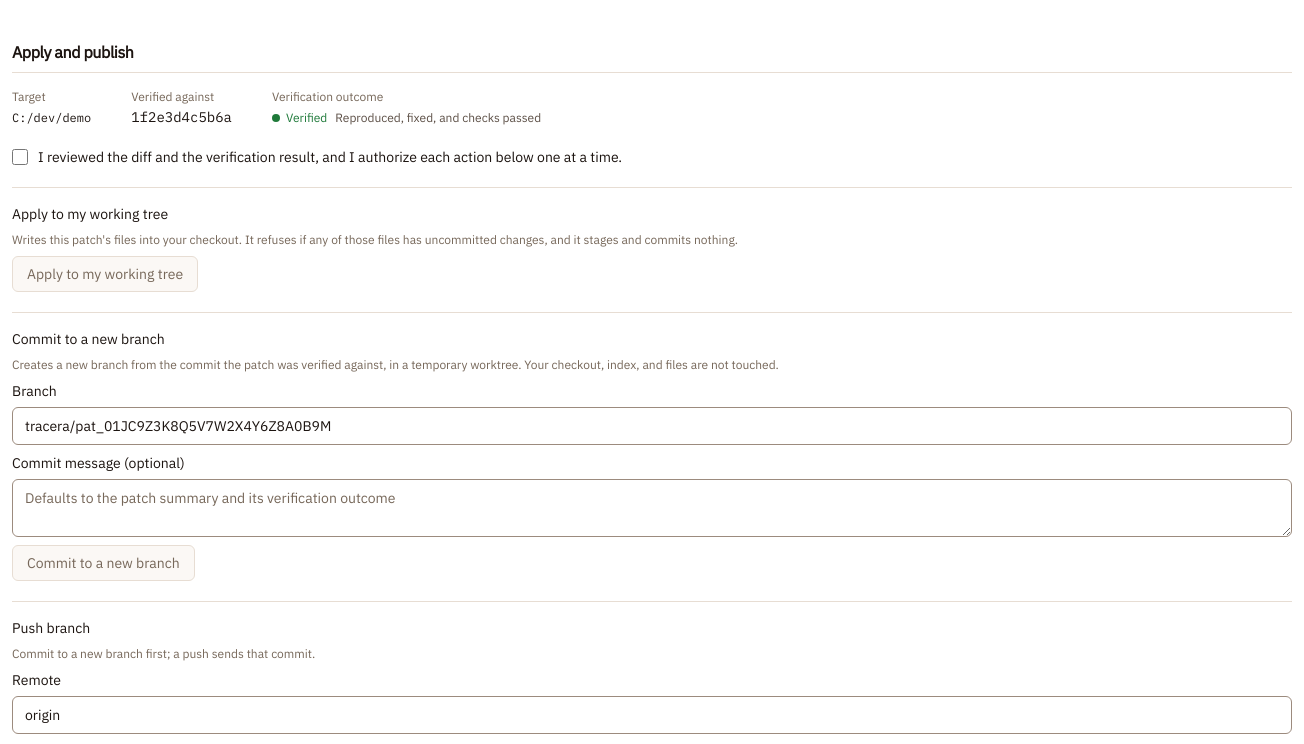
Test: the apply and publish panel › commits with the typed branch and leaves a blank message to the server
This screenshot has width=1304, height=744.
Click the checkbox: (20, 157) [12, 149, 28, 165]
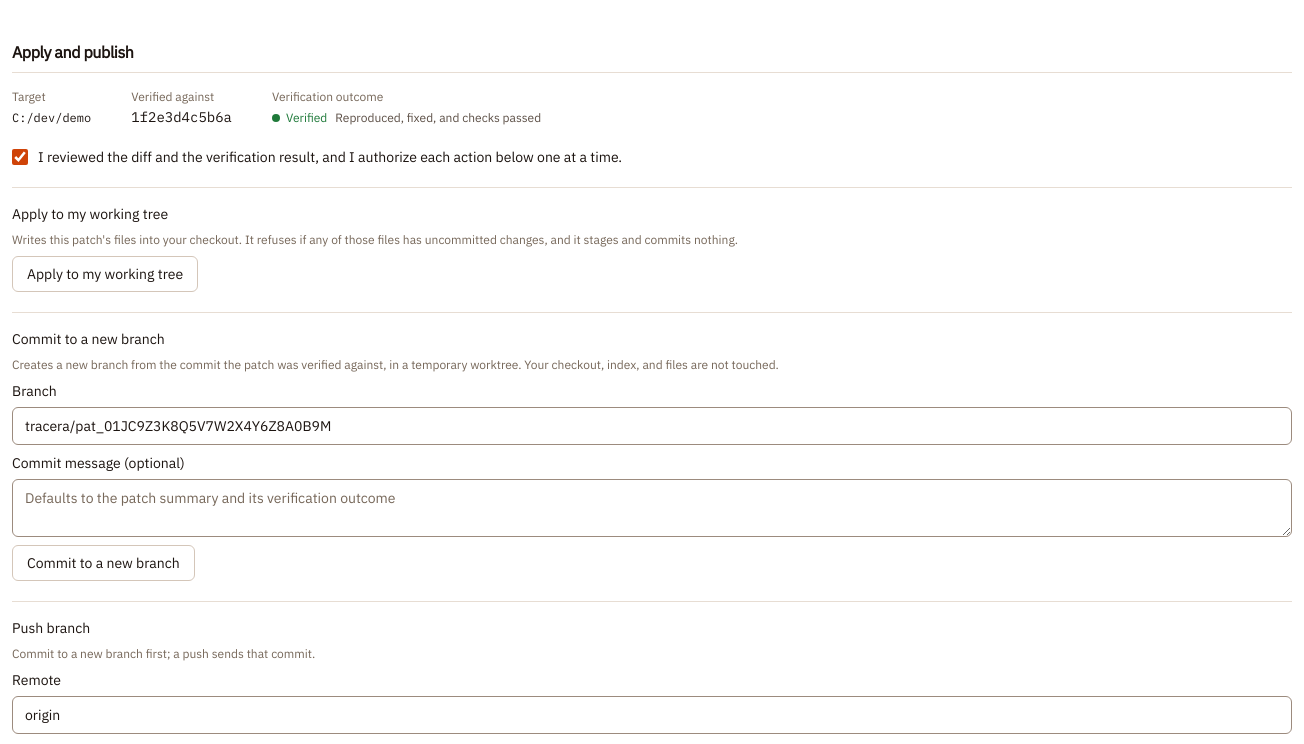
Replace the text in the field labelled "Branch" with "fix/cart-total": (652, 426) [12, 407, 1292, 445]
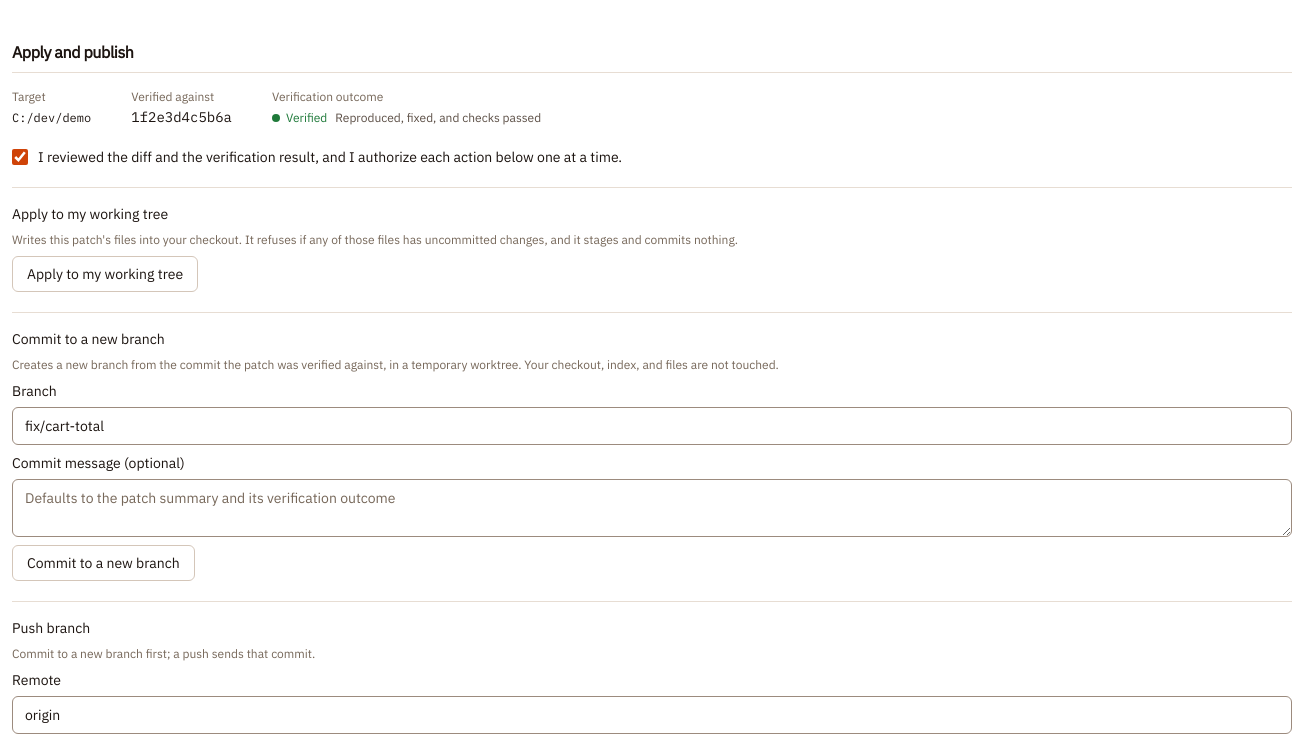
Click the button "Commit to a new branch": (103, 563) [12, 545, 195, 581]
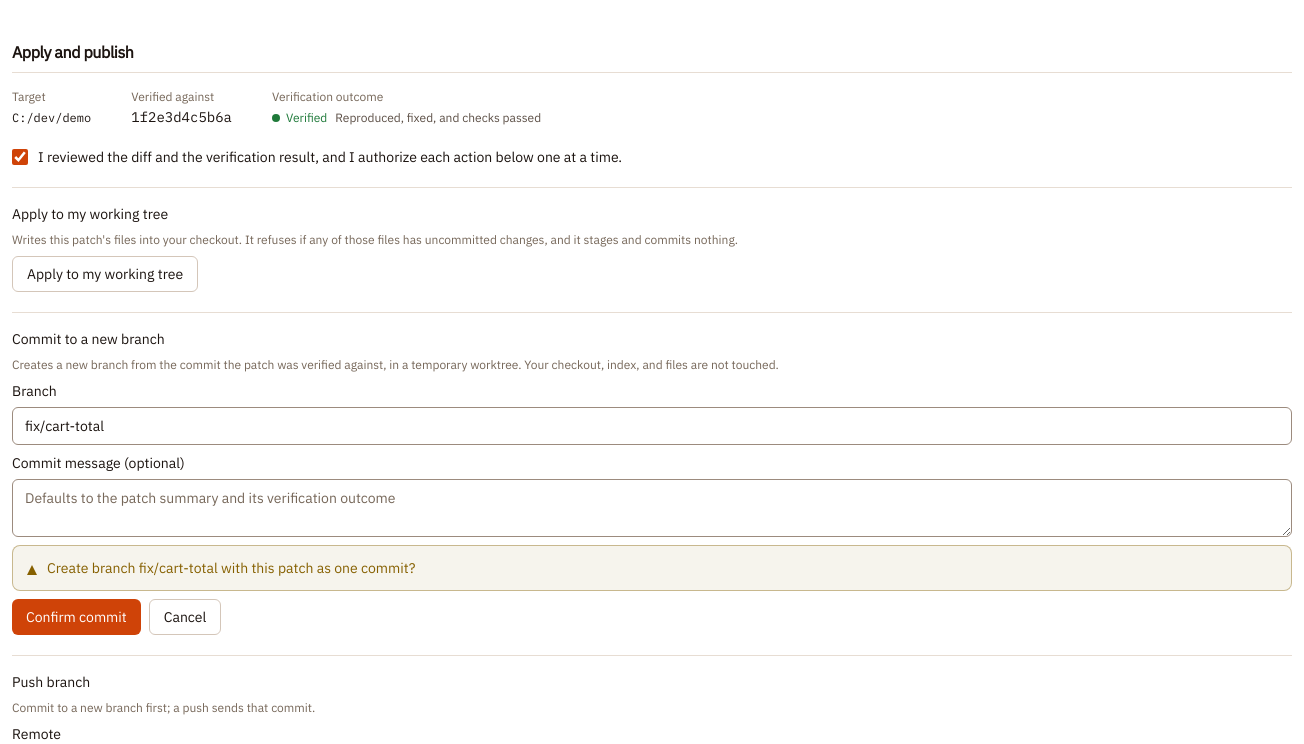
Expected: the text "Create branch fix/cart-total with this patch as one commit?" is shown, [47, 558, 415, 578]
Click the button "Confirm commit": (76, 617) [12, 599, 141, 635]
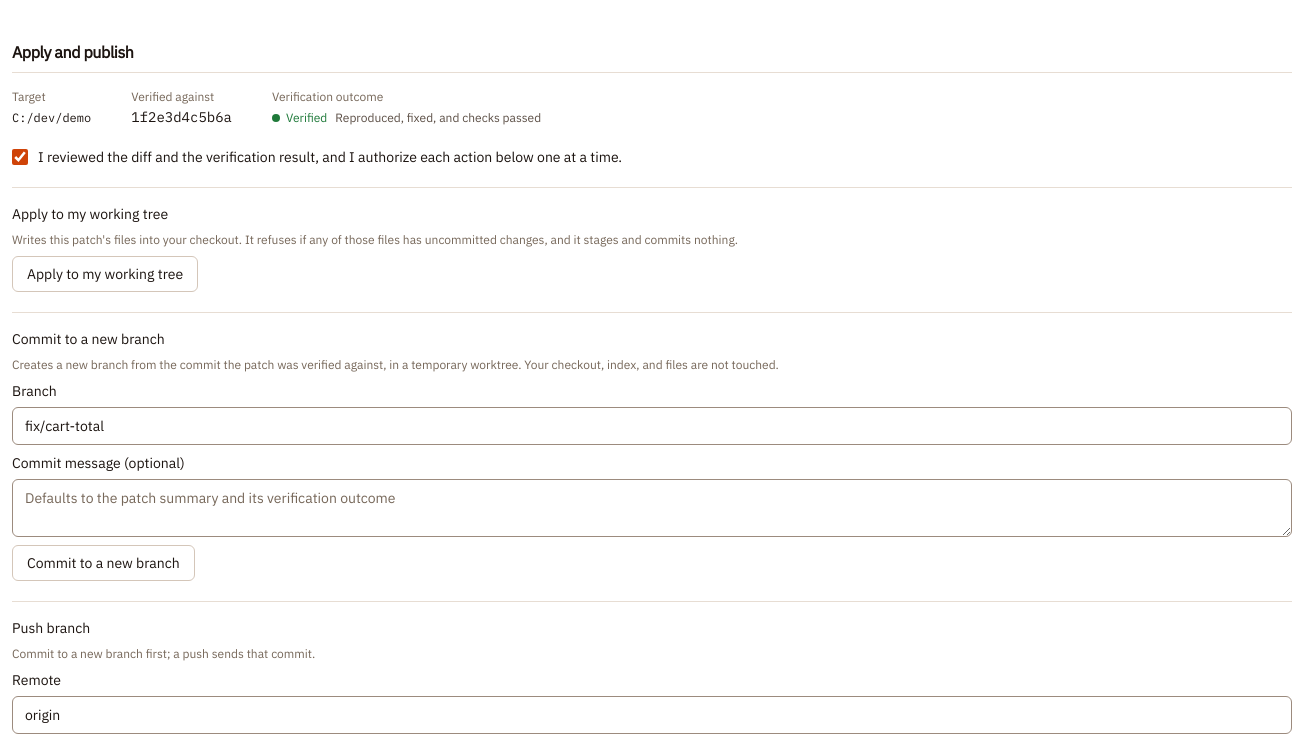
Expected: the button "Commit to a new branch" is shown, [12, 545, 195, 581]
